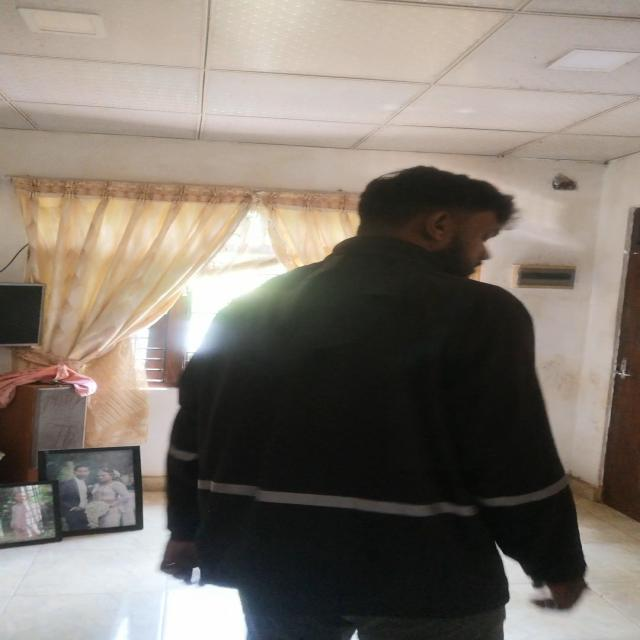Jacket_Wearer: (162, 232, 596, 609)
Person: (160, 158, 593, 636)
